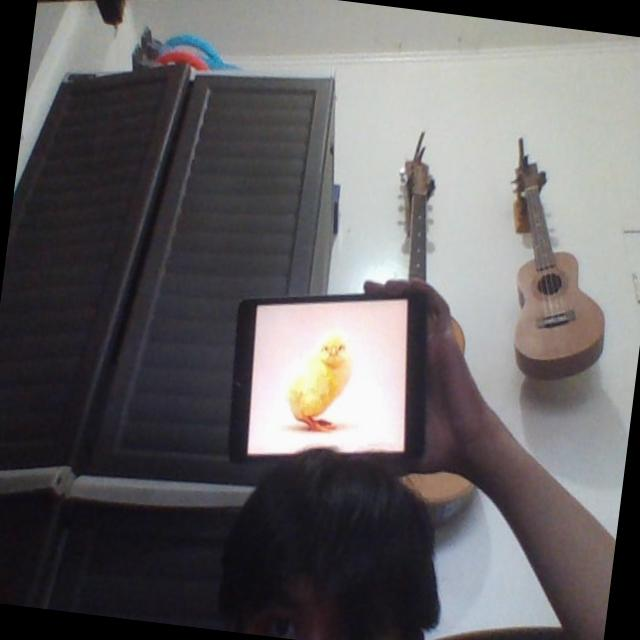Healthy: (282, 327, 359, 440)
